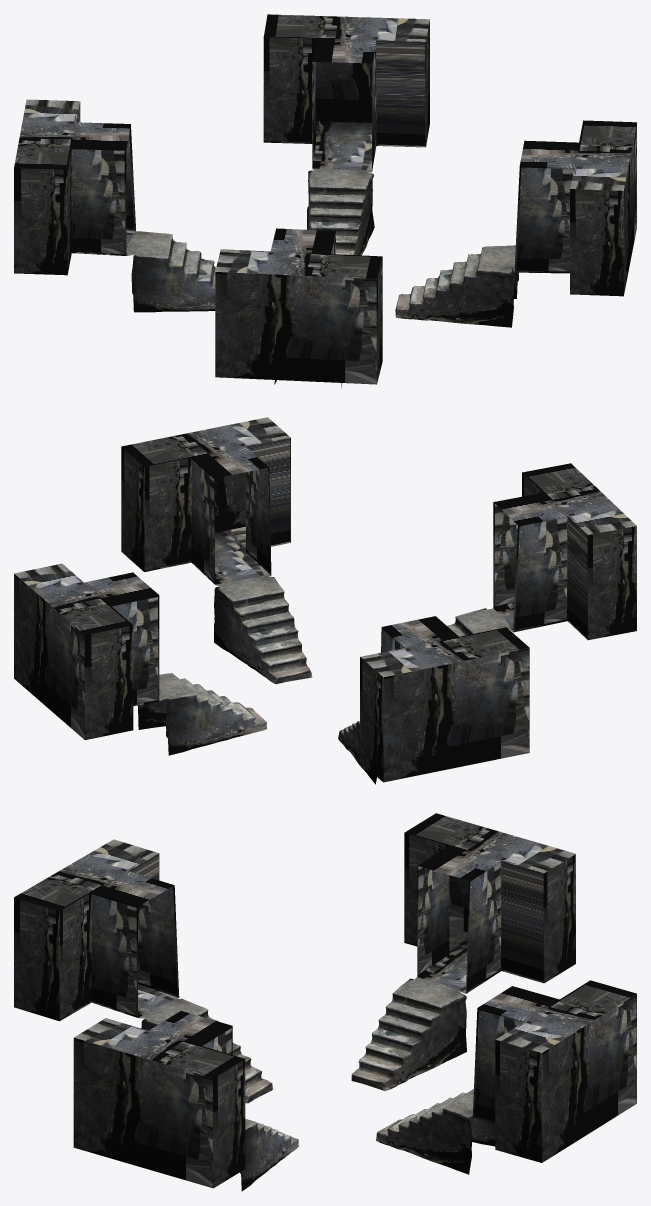
3 views of the same model, one above another, from view 1: azimuth 30°, elevation 25°; view 2: azimuth 150°, elevation 25°; view 3: azimuth 270°, elevation 25° (orthographic). The views are drawn at different scales.
Parts seen in each view (by area): view 1: pasted__C; view 2: pasted__C; view 3: pasted__C.
Part boxes in pixels (box(x1,y1,x2,y2)): pasted__C: box(14, 14, 636, 387); pasted__C: box(14, 417, 636, 784); pasted__C: box(14, 813, 636, 1191).
Size of the model in its own units: 1297 by 391 by 1299.
